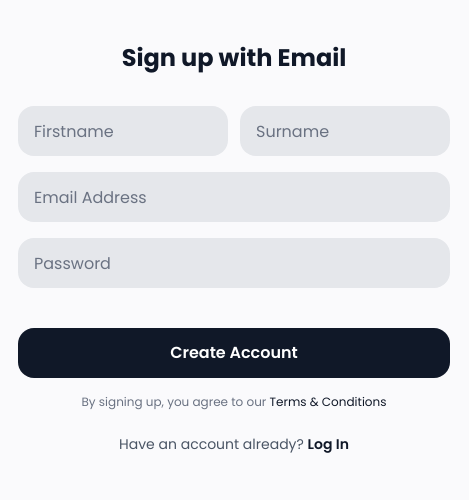
Scenario: RegisterPage › shows validation errors when inputs are empty
What coordinates should you click on to do the following:
click the button "Create Account"
I would click on:
 (234, 353)
Its box is [18, 328, 450, 378].
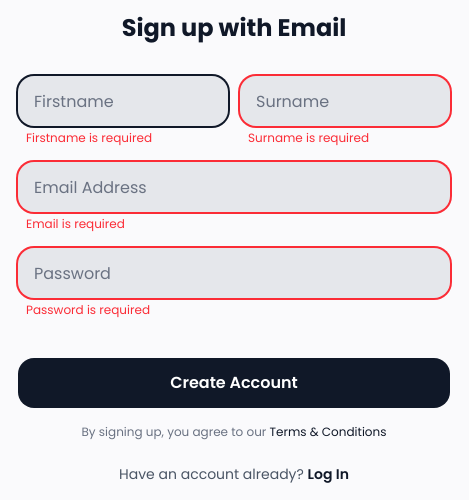
Check: the text "Firstname is required" is shown, box [26, 129, 152, 146]
Check: the text "Surname is required" is shown, box [248, 129, 369, 146]
Check: the text "Email is required" is shown, box [26, 215, 125, 232]
